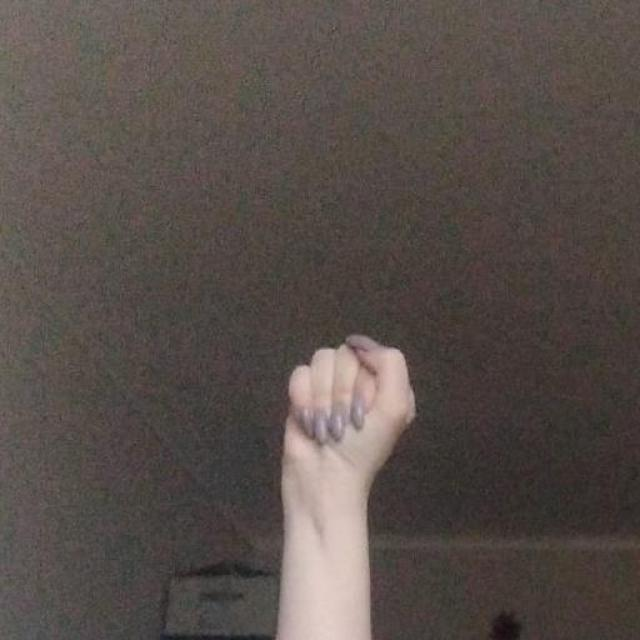hand: (280, 331, 419, 524)
